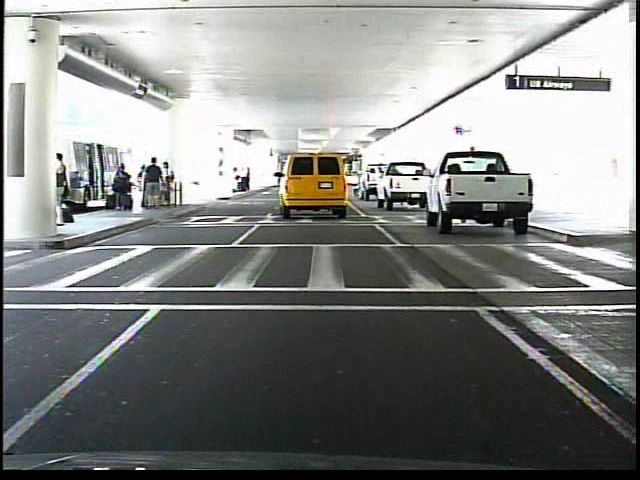person: (58, 147, 77, 233)
